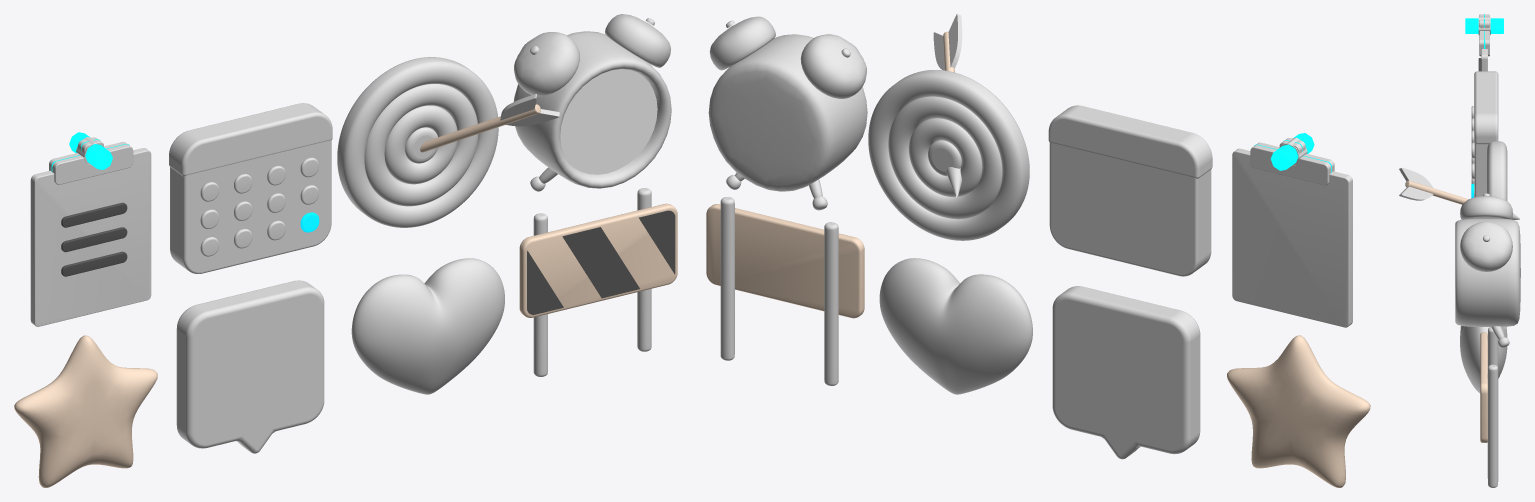
The model's file is Sketchfab_2024_08_26_14_08_13.fbx.
The picture shows the model from 3 angles, left to right: view 1: azimuth 30°, elevation 25°; view 2: azimuth 150°, elevation 25°; view 3: azimuth 270°, elevation 25°; orthographic projection. The views are drawn at different scales.
Visible parts, largest first — view 1: Cube.037, Cube.007, BezierCircle.001, Heart, Cube.026, Circle, Cube.058, Cylinder.022, Cylinder.019, Cube.027, Cylinder.020, Plane.006 (+5 smaller); view 2: Cube.037, BezierCircle.001, Cube.007, Cylinder.019, Cube.026, Heart, Circle, Cube.058, Cube.027, Cylinder.020, Cube.032, Cylinder.006 (+1 smaller); view 3: Cylinder.019, Cylinder.020, Cube.027, Cube.032, Heart, BezierCircle.001, Cube.007, Cube.058, Cube.026, Cylinder.006, Cylinder.002, Cube.028 (+1 smaller).
Boxes of the visible parts, box(x1,y1,x2,y2) form: Cube.037: box(176, 280, 324, 453); Cube.007: box(30, 132, 151, 326); BezierCircle.001: box(337, 57, 498, 227); Heart: box(351, 258, 504, 394); Cube.026: box(170, 140, 331, 273); Circle: box(14, 335, 157, 487); Cube.058: box(519, 203, 677, 317); Cylinder.022: box(560, 69, 657, 174); Cylinder.019: box(513, 31, 671, 188); Cube.027: box(169, 103, 332, 176); Cylinder.020: box(514, 14, 670, 96); Plane.006: box(527, 210, 675, 314); Cube.037: box(1052, 286, 1200, 459); BezierCircle.001: box(868, 70, 1029, 240); Cube.007: box(1232, 133, 1352, 327); Cylinder.019: box(708, 34, 867, 191); Cube.026: box(1049, 142, 1211, 276); Heart: box(879, 258, 1032, 394); Circle: box(1227, 335, 1370, 487); Cube.058: box(706, 204, 864, 318); Cube.027: box(1048, 105, 1212, 178); Cylinder.020: box(709, 16, 866, 98); Cube.032: box(720, 197, 838, 385); Cylinder.006: box(933, 14, 962, 70); Cylinder.019: box(1455, 218, 1520, 326); Cylinder.020: box(1460, 193, 1512, 271); Cube.027: box(1474, 71, 1498, 144); Cube.032: box(1487, 327, 1498, 487); Heart: box(1460, 326, 1507, 393); BezierCircle.001: box(1487, 141, 1507, 200); Cube.007: box(1465, 14, 1503, 71); Cube.058: box(1480, 332, 1487, 442); Cube.026: box(1474, 143, 1488, 196); Cylinder.006: box(1399, 167, 1433, 200); Cylinder.002: box(1405, 180, 1468, 204); Cube.028: box(1471, 106, 1474, 197).
Size of the model in its own units: 986 by 502 by 209.
